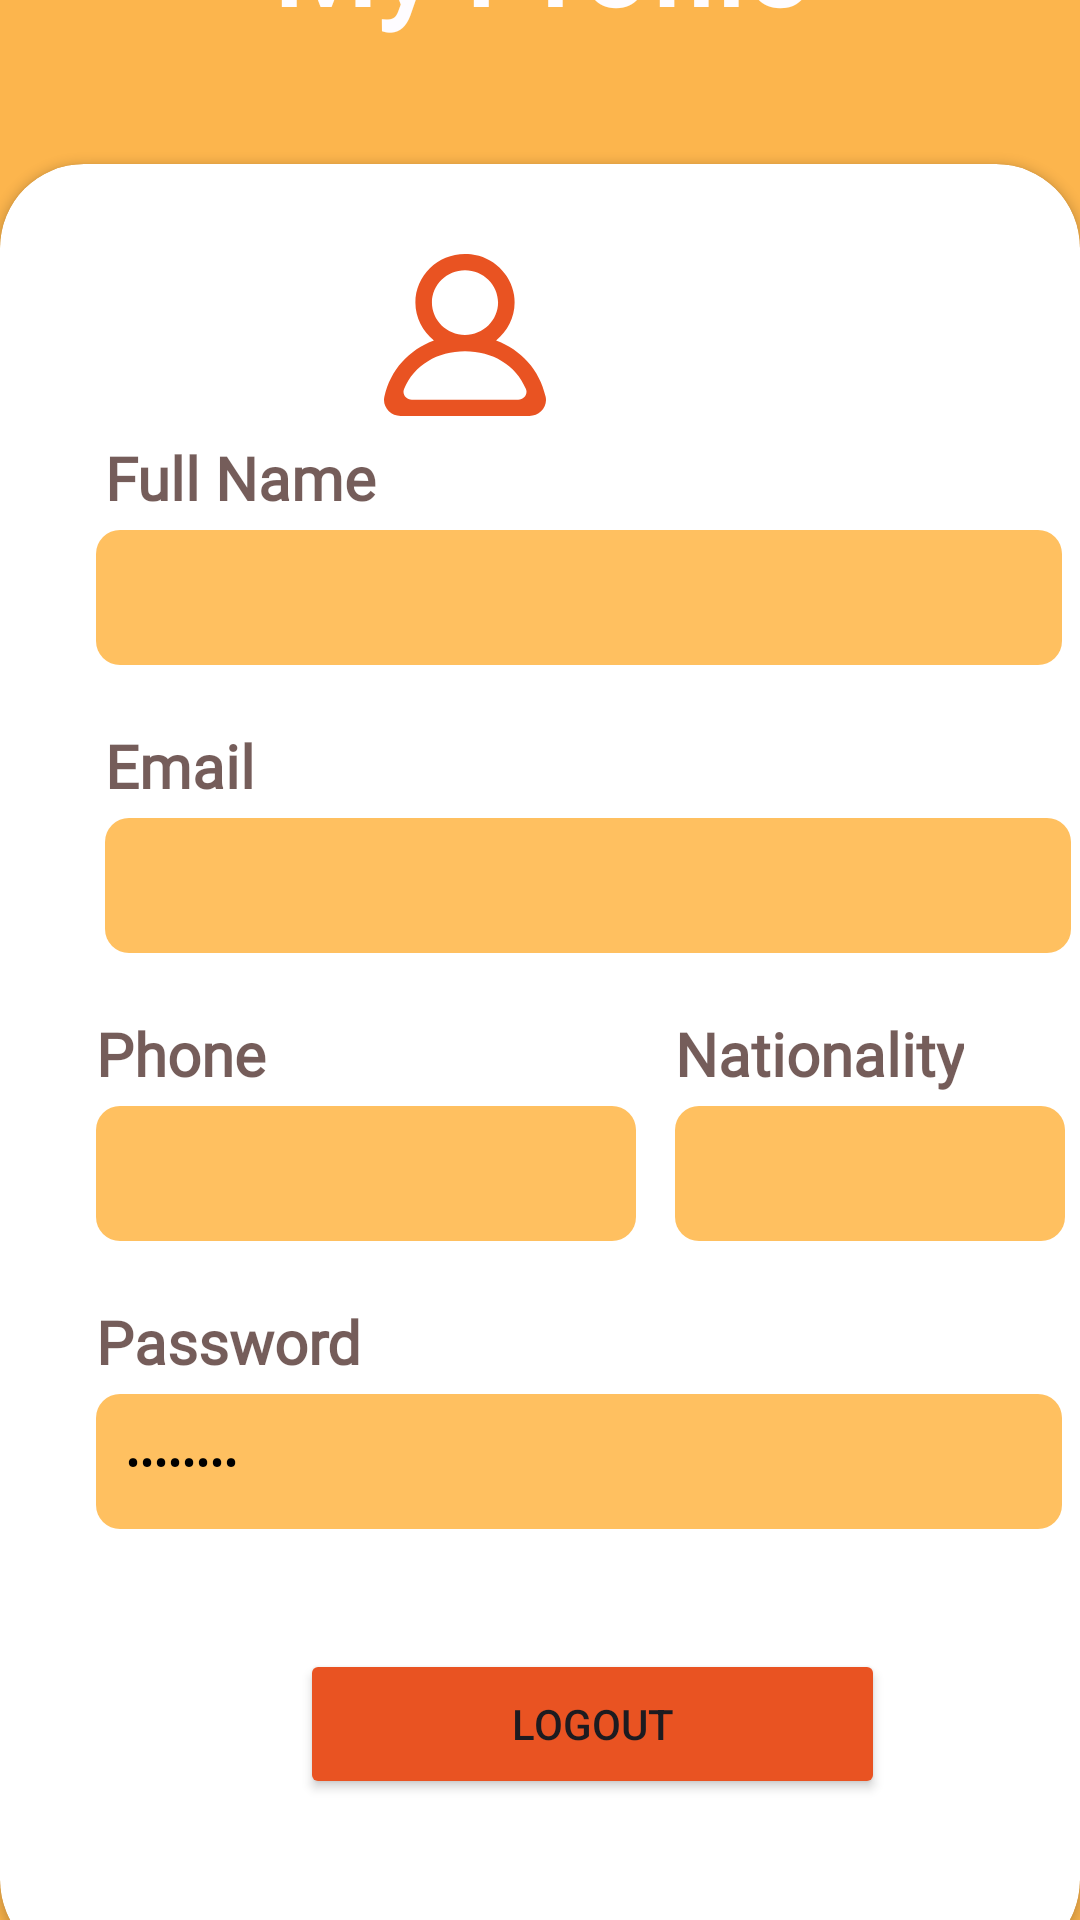

Where icons sit on this 1080 x 1920 app screen, as detection(x1, y1, x2, y2):
profile: detection(384, 254, 546, 416)
